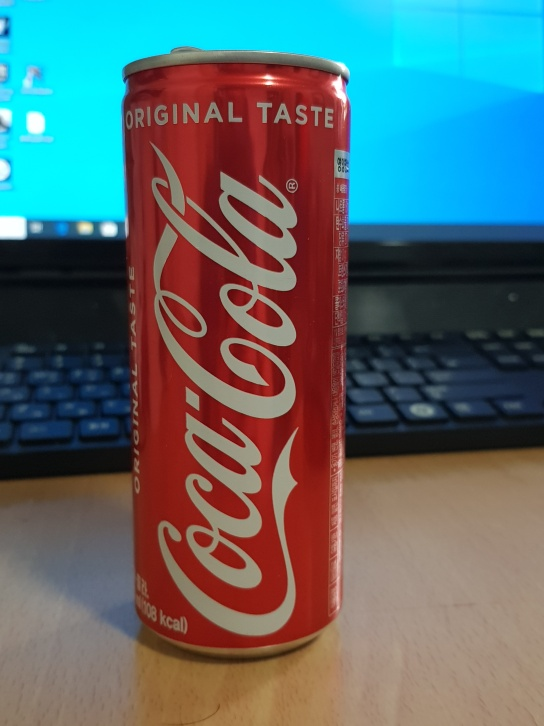Can: (118, 41, 357, 665)
